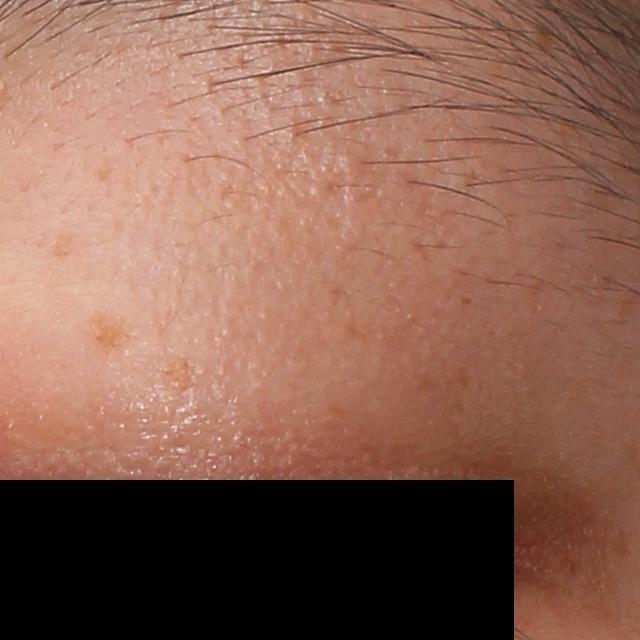melasma: (85, 306, 129, 357), (159, 349, 198, 396), (51, 229, 81, 259), (451, 360, 470, 387)
